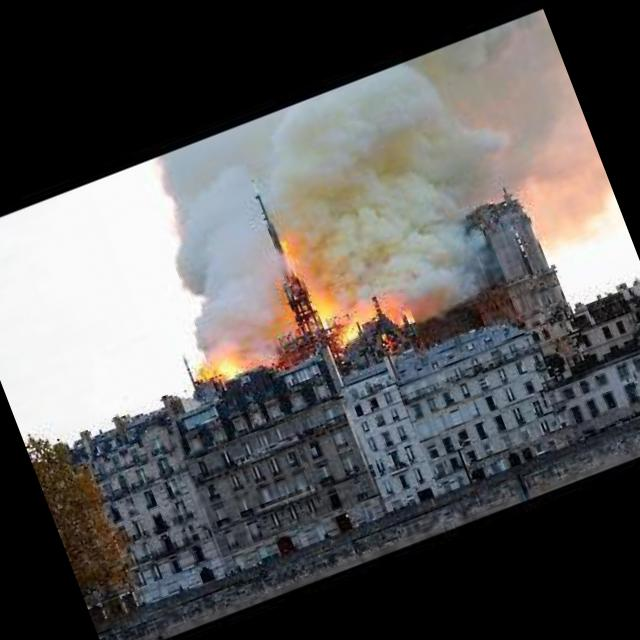fire: (261, 216, 352, 364), (340, 286, 428, 358), (203, 346, 257, 398)
smoke: (130, 12, 626, 382)
